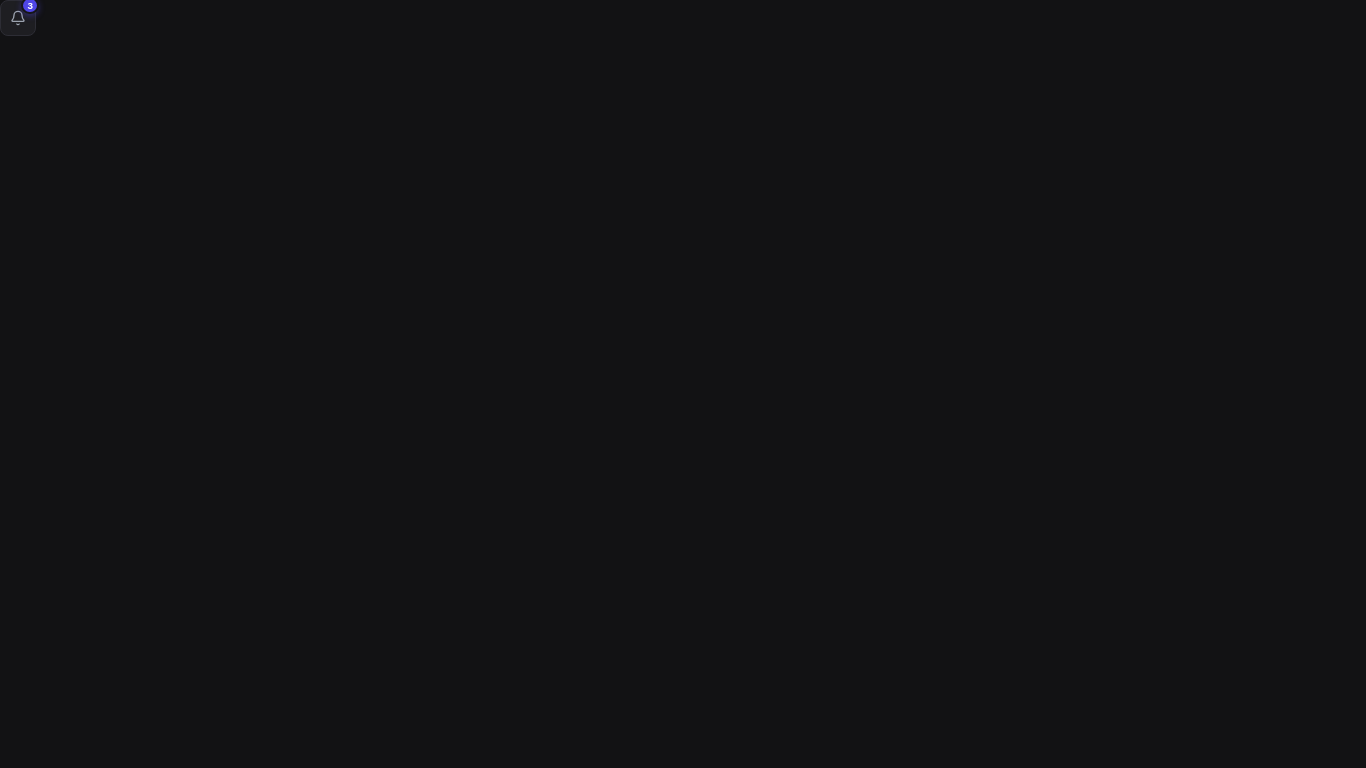
Test: shared shell popover accessibility › exposes each notification as a native action independent of dismiss
Step 1. Click the button named "Notifications" → (18,18), box [0,0,36,36]
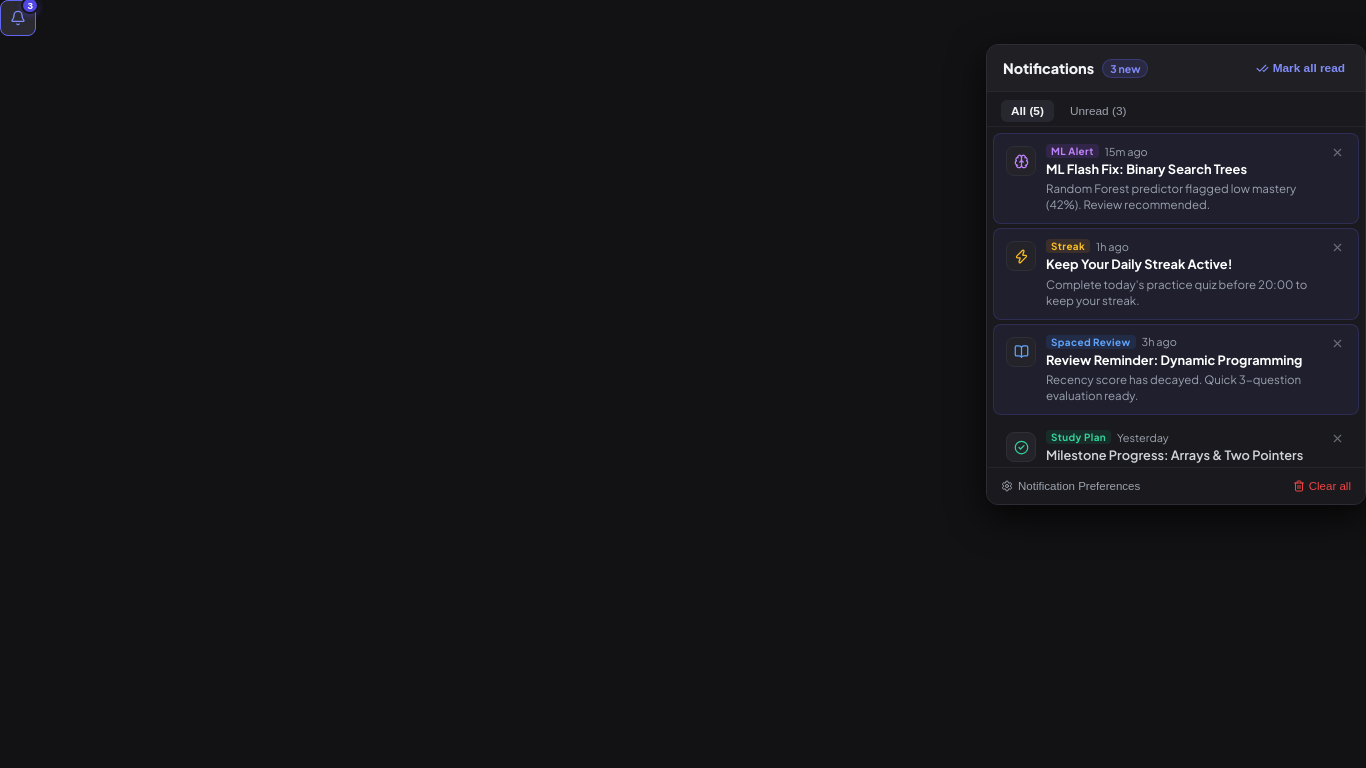
Step 2. Click the button "ML Flash Fix:" → (1162,179), box [1006,144,1319,214]
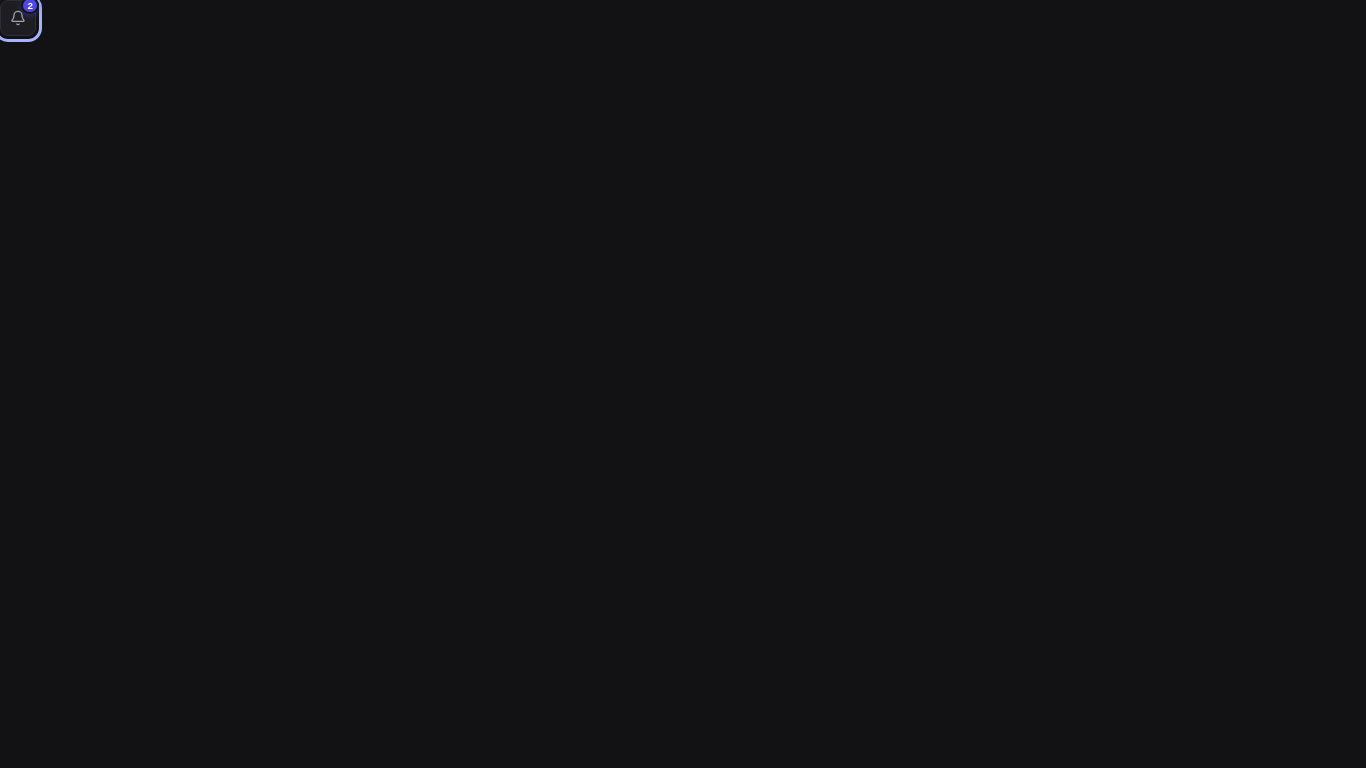
Step 3. Click the button named "Notifications" → (18,18), box [0,0,36,36]
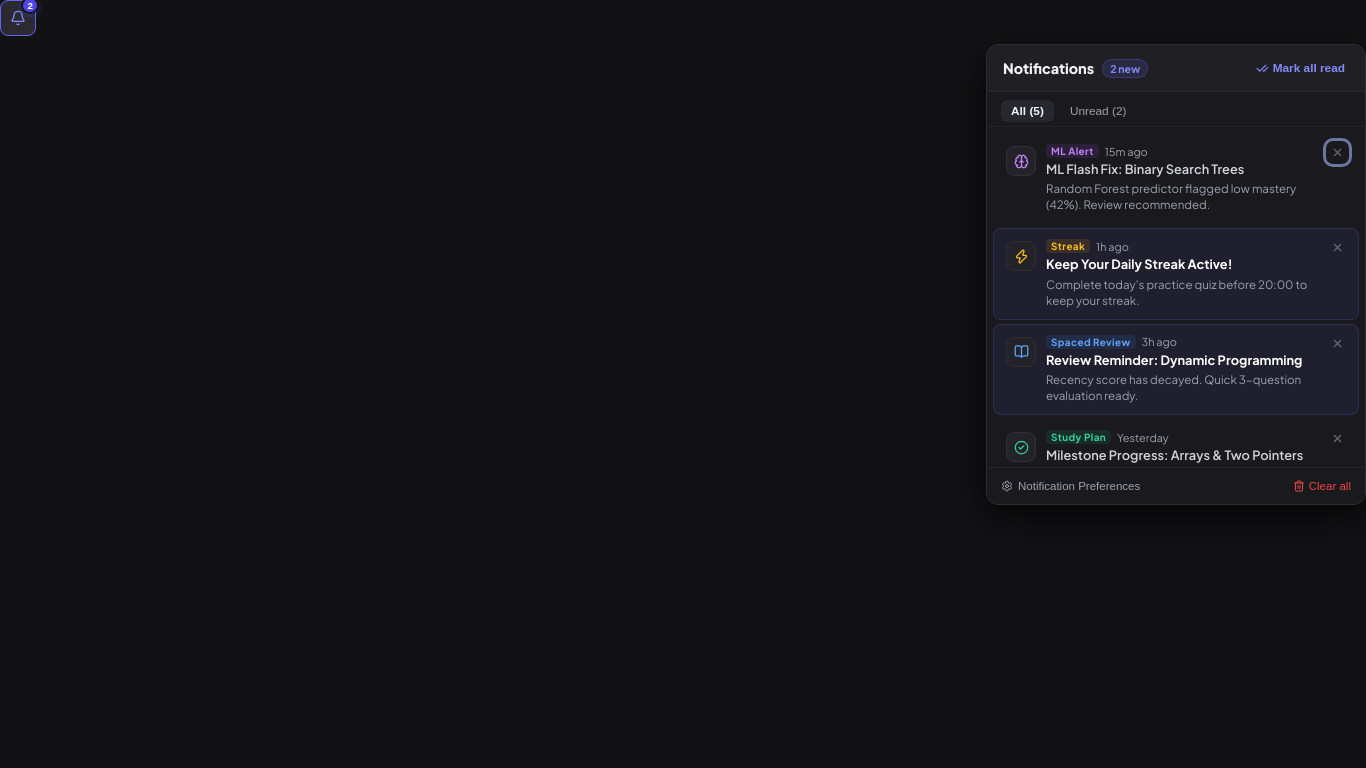
Step 4. Press Escape in the button named "Dismiss ML Flash Fix:", box [1329,144,1346,161]
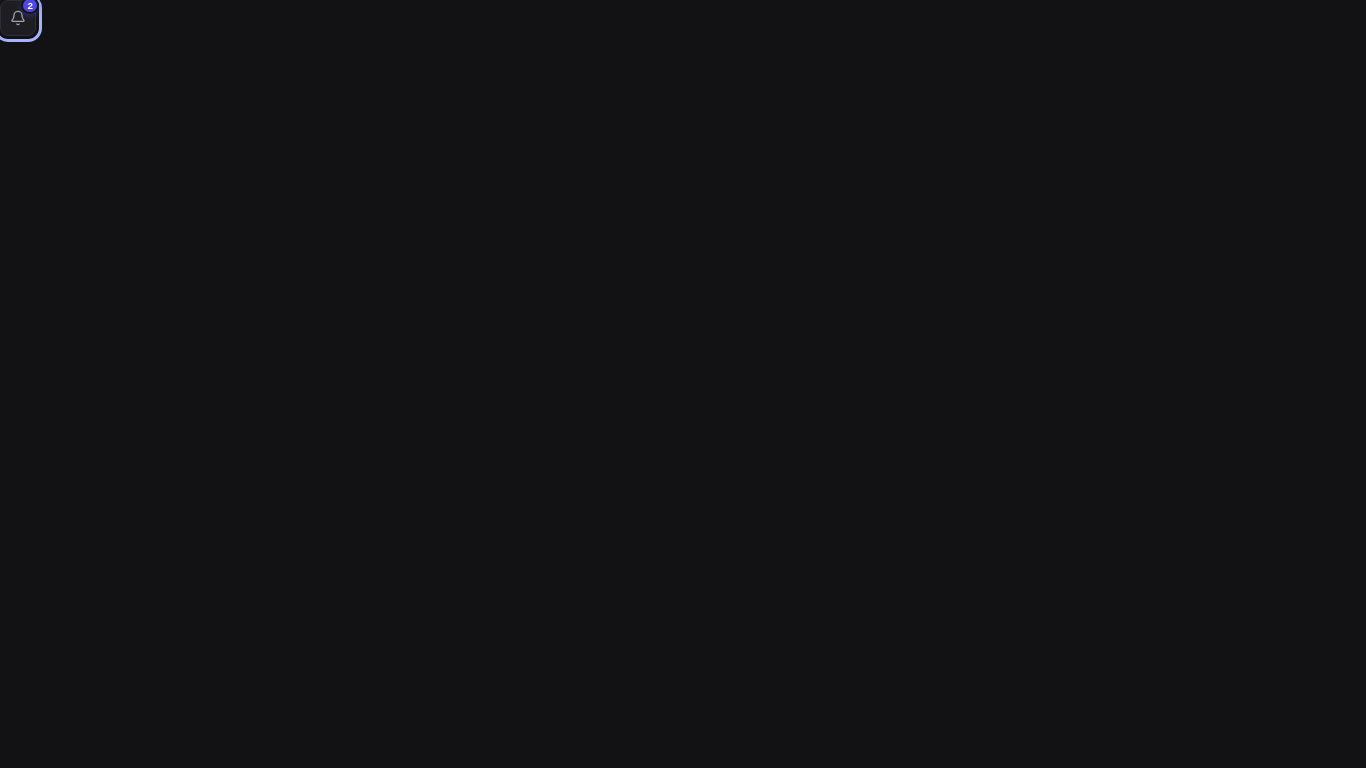
Now the dialog is gone
